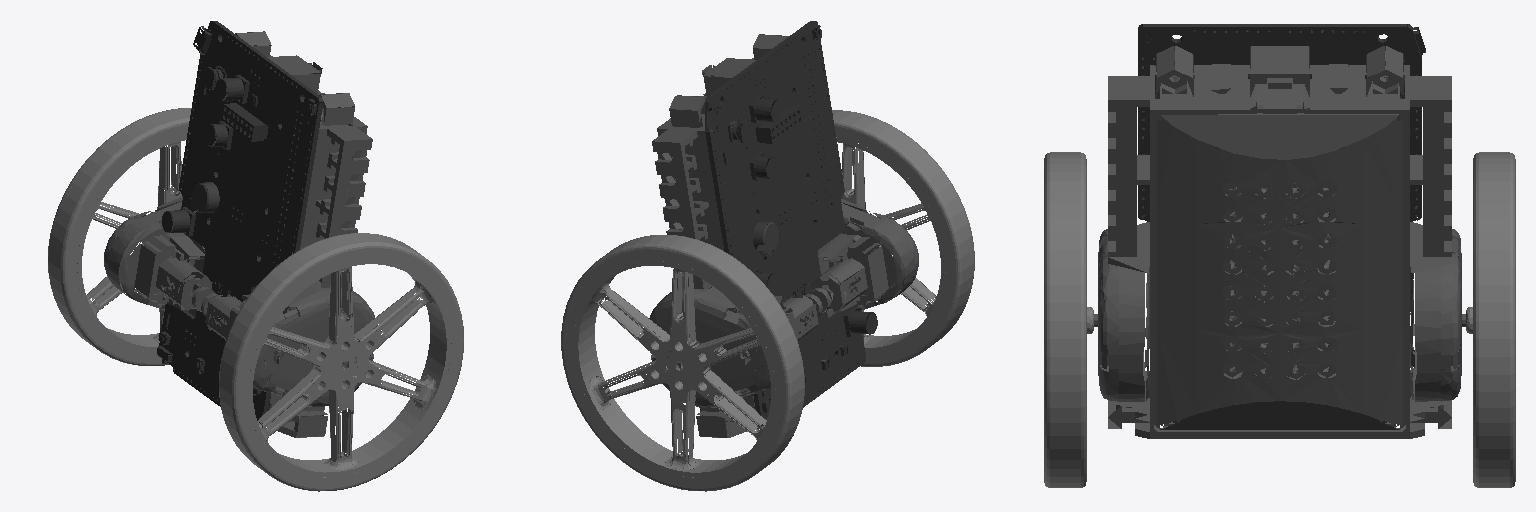
URDF robot description (balboa_balancing_robot_kit):
<?xml version='1.0' encoding='utf-8'?>
<robot name="balboa_balancing_robot_kit">
  <!-- Generated by tools/build_balboa_urdf.py from the Onshape export of the Pololu Balboa 32U4 kit. Frame: x forward, y left, z up, origin on the wheel axle. Masses are nominal estimates. -->
  <link name="base_link">
    <inertial>
      <origin xyz="-9.59027e-15 8.46272e-05 0.0198955" rpy="0 0 0" />
      <mass value="0.27" />
      <inertia ixx="0.00033312" ixy="-4.26574e-08" ixz="-3.06481e-05" iyy="0.000217333" iyz="-1.64306e-06" izz="0.000186671" />
    </inertial>
    <visual>
      <origin xyz="0 0 0" rpy="0 0 0" />
      <geometry>
        <mesh filename="meshes/base_bal01a01_buzzer.stl" />
      </geometry>
      <material name="base_bal01a01_buzzer">
        <color rgba="0.282353 0.282353 0.282353 1" />
      </material>
    </visual>
    <visual>
      <origin xyz="0 0 0" rpy="0 0 0" />
      <geometry>
        <mesh filename="meshes/base_bal01a01_bal01a01.stl" />
      </geometry>
      <material name="base_bal01a01_bal01a01">
        <color rgba="0.25098 0.25098 0.25098 1" />
      </material>
    </visual>
    <visual>
      <origin xyz="0 0 0" rpy="0 0 0" />
      <geometry>
        <mesh filename="meshes/base_battery_cover_boss_extrude_logo.stl" />
      </geometry>
      <material name="base_battery_cover_boss_extrude_logo">
        <color rgba="0.376471 0.376471 0.376471 1" />
      </material>
    </visual>
    <visual>
      <origin xyz="0 0 0" rpy="0 0 0" />
      <geometry>
        <mesh filename="meshes/base_chassis_none.stl" />
      </geometry>
      <material name="base_chassis_none">
        <color rgba="0.376471 0.376471 0.376471 1" />
      </material>
    </visual>
    <collision>
      <origin xyz="0 0 0" rpy="0 0 0" />
      <geometry>
        <mesh filename="meshes/body_collision.stl" />
      </geometry>
    </collision>
  </link>
  <link name="left_wheel">
    <inertial>
      <origin xyz="-7.43056e-09 2.02745e-17 -0.00280019" rpy="0 0 0" />
      <mass value="0.02" />
      <inertia ixx="7.95045e-06" ixy="0" ixz="0" iyy="7.95045e-06" iyz="0" izz="1.55256e-05" />
    </inertial>
    <visual>
      <origin xyz="0 0 0" rpy="0 0 0" />
      <geometry>
        <mesh filename="meshes/left_wheel.stl" />
      </geometry>
      <material name="left_wheel">
        <color rgba="0.501961 0.501961 0.501961 1" />
      </material>
    </visual>
    <collision>
      <origin xyz="-7.43056e-09 2.02745e-17 -0.00280019" rpy="0 0 0" />
      <geometry>
        <cylinder radius="0.04" length="0.0117501" />
      </geometry>
    </collision>
  </link>
  <joint name="left_wheel_joint" type="continuous">
    <origin xyz="0 0.0535 0" rpy="-1.5708 0 0" />
    <axis xyz="0 0 1" />
    <parent link="base_link" />
    <child link="left_wheel" />
  </joint>
  <link name="right_wheel">
    <inertial>
      <origin xyz="3.96312e-19 -1.81052e-17 0.00280019" rpy="0 0 0" />
      <mass value="0.02" />
      <inertia ixx="7.95045e-06" ixy="0" ixz="0" iyy="7.95045e-06" iyz="0" izz="1.55256e-05" />
    </inertial>
    <visual>
      <origin xyz="0 0 0" rpy="0 0 0" />
      <geometry>
        <mesh filename="meshes/right_wheel.stl" />
      </geometry>
      <material name="right_wheel">
        <color rgba="0.501961 0.501961 0.501961 1" />
      </material>
    </visual>
    <collision>
      <origin xyz="3.96312e-19 -1.81052e-17 0.00280019" rpy="0 0 0" />
      <geometry>
        <cylinder radius="0.04" length="0.0117501" />
      </geometry>
    </collision>
  </link>
  <joint name="right_wheel_joint" type="continuous">
    <origin xyz="0 -0.0535 0" rpy="-1.5708 0 0" />
    <axis xyz="0 0 1" />
    <parent link="base_link" />
    <child link="right_wheel" />
  </joint>
</robot>

--- Facts derived from the render (not from the file) ---
3 views of the same robot in one strip: view 1: azimuth 30°, elevation 25°; view 2: azimuth 150°, elevation 25°; view 3: azimuth 270°, elevation 25° (orthographic).
Model balboa_balancing_robot_kit with 3 links and 2 joints (2 continuous), rooted at base_link, posed every joint at zero.
Links seen in each view (by area): view 1: base_link, right_wheel, left_wheel; view 2: base_link, left_wheel, right_wheel; view 3: base_link, right_wheel, left_wheel.
Link boxes in pixels (x1,y1,x2,y2): base_link: (104, 21, 376, 437); right_wheel: (219, 233, 463, 491); left_wheel: (48, 108, 191, 365); base_link: (649, 21, 918, 437); left_wheel: (561, 235, 804, 491); right_wheel: (832, 110, 974, 366); base_link: (1094, 24, 1465, 438); right_wheel: (1044, 152, 1093, 487); left_wheel: (1466, 152, 1515, 487).
Size in the robot's own frame: 0.08 by 0.112 by 0.1189 metres.
Meshes: 6 distinct files referenced, 6 mesh visuals loaded (6 binary STL).
